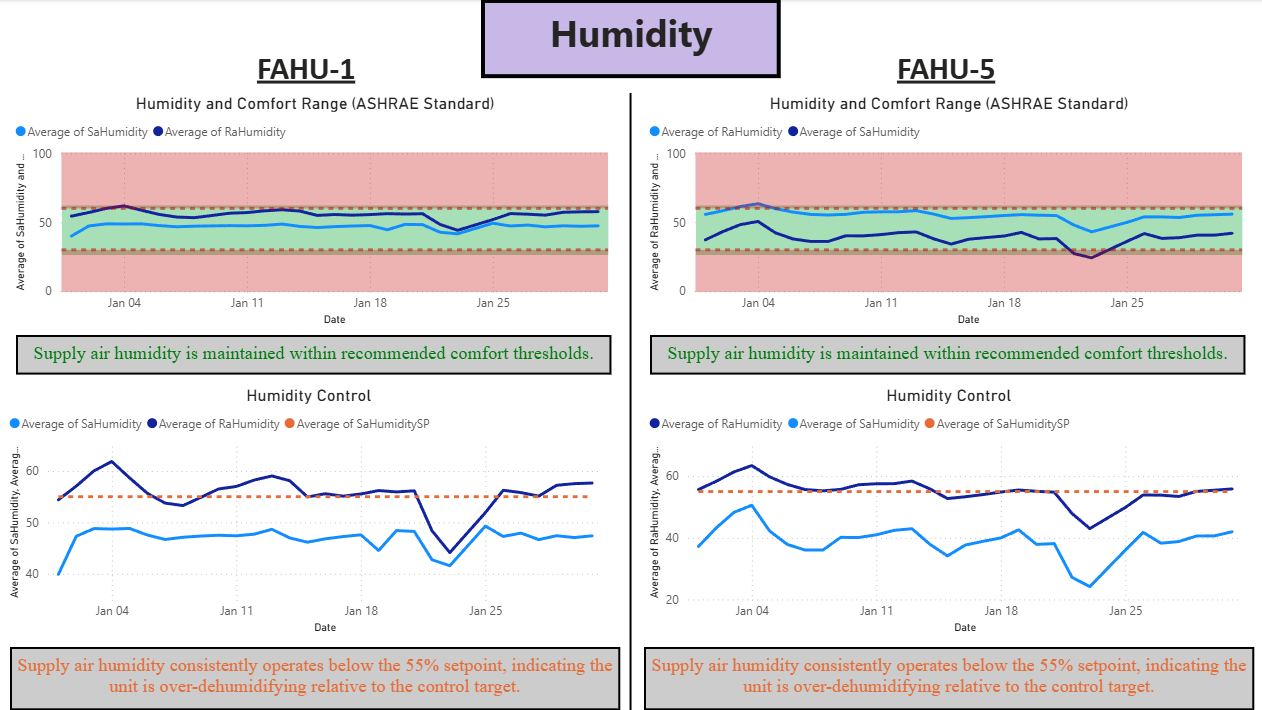

This screenshot's page, from the dashboard's own definition file:
{"tool":"powerbi","page":{"name":"Humidity","canvas":[1280,720],"ordinal":4},"visuals":[{"type":"textbox","box":[256.8,45.7,114.8,59.3],"z":0},{"type":"textbox","box":[903.6,45.7,114.8,59.3],"z":1000},{"type":"shape","box":[628.3,95.3,23.3,624.4],"z":2000},{"type":"textbox","box":[488.3,0,303.3,79.9],"z":3000},{"type":"lineChart","title":"Humidity and Comfort Range (ASHRAE Standard)","fields":{"Category":["TimeSpine.Date & TimeValue Hierarchy.Date","TimeSpine.Date & TimeValue Hierarchy.TimeValue"],"Y":["Avg(FAHU-1.SaHumidity)","Avg(FAHU-1.RaHumidity)"]},"box":[11.7,95.3,616.7,239.3],"z":4000},{"type":"lineChart","title":"Humidity Control","fields":{"Category":["TimeSpine.Date & TimeValue Hierarchy.Date","TimeSpine.Date & TimeValue Hierarchy.TimeValue"],"Y":["Avg(FAHU-1.SaHumidity)","Avg(FAHU-1.RaHumidity)","Avg(FAHU-1.SaHumiditySP)"]},"box":[5.8,390,616.7,255.8],"z":5000},{"type":"textbox","box":[18.5,339.5,602.1,39.9],"z":6000},{"type":"textbox","box":[11.7,655.6,616.7,64.2],"z":7000},{"type":"textbox","box":[659.5,339.5,602.1,39.9],"z":8000},{"type":"textbox","box":[652.6,655.6,616.7,64.2],"z":9000},{"type":"lineChart","title":"Humidity and Comfort Range (ASHRAE Standard)","fields":{"Category":["TimeSpine.Date & TimeValue Hierarchy.Date","TimeSpine.Date & TimeValue Hierarchy.TimeValue"],"Y":["Avg(FAHU-5.RaHumidity)","Avg(FAHU-5.SaHumidity)"]},"box":[652.6,95.3,616.7,239.3],"z":10000},{"type":"lineChart","title":"Humidity Control","fields":{"Category":["TimeSpine.Date & TimeValue Hierarchy.Date","TimeSpine.Date & TimeValue Hierarchy.TimeValue"],"Y":["Avg(FAHU-5.RaHumidity)","Avg(FAHU-5.SaHumidity)","Avg(FAHU-5.SaHumiditySP)"]},"box":[652.6,390,616.7,255.8],"z":11000}]}

Visuals, with their boxes in screenshot pixels (x1, y1, x2, y2), scaled from the page's 1280x720 canvas onto the 1262x710 screenshot:
textbox: box=[253, 45, 366, 104]
textbox: box=[891, 45, 1004, 104]
shape: box=[619, 94, 642, 709]
textbox: box=[481, 0, 780, 79]
"Humidity and Comfort Range (ASHRAE Standard)" lineChart: box=[12, 94, 620, 330]
"Humidity Control" lineChart: box=[6, 385, 614, 637]
textbox: box=[18, 335, 612, 374]
textbox: box=[12, 646, 620, 709]
textbox: box=[650, 335, 1244, 374]
textbox: box=[643, 646, 1251, 709]
"Humidity and Comfort Range (ASHRAE Standard)" lineChart: box=[643, 94, 1251, 330]
"Humidity Control" lineChart: box=[643, 385, 1251, 637]
